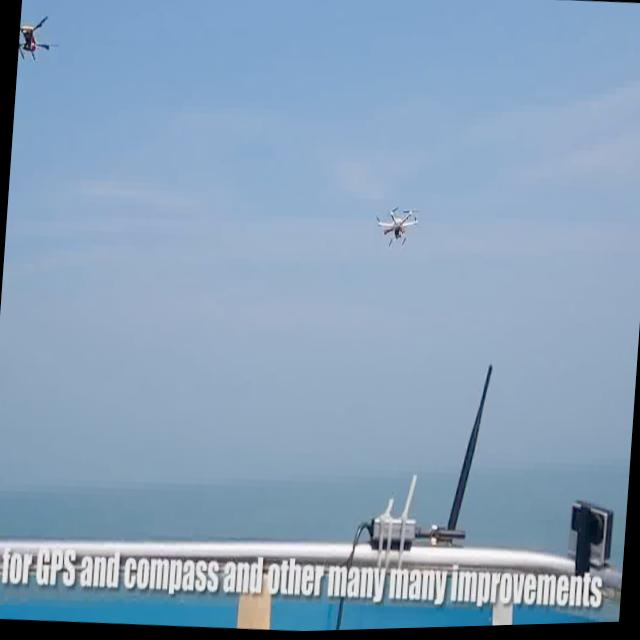drone: (374, 202, 420, 254), (17, 5, 55, 66)
